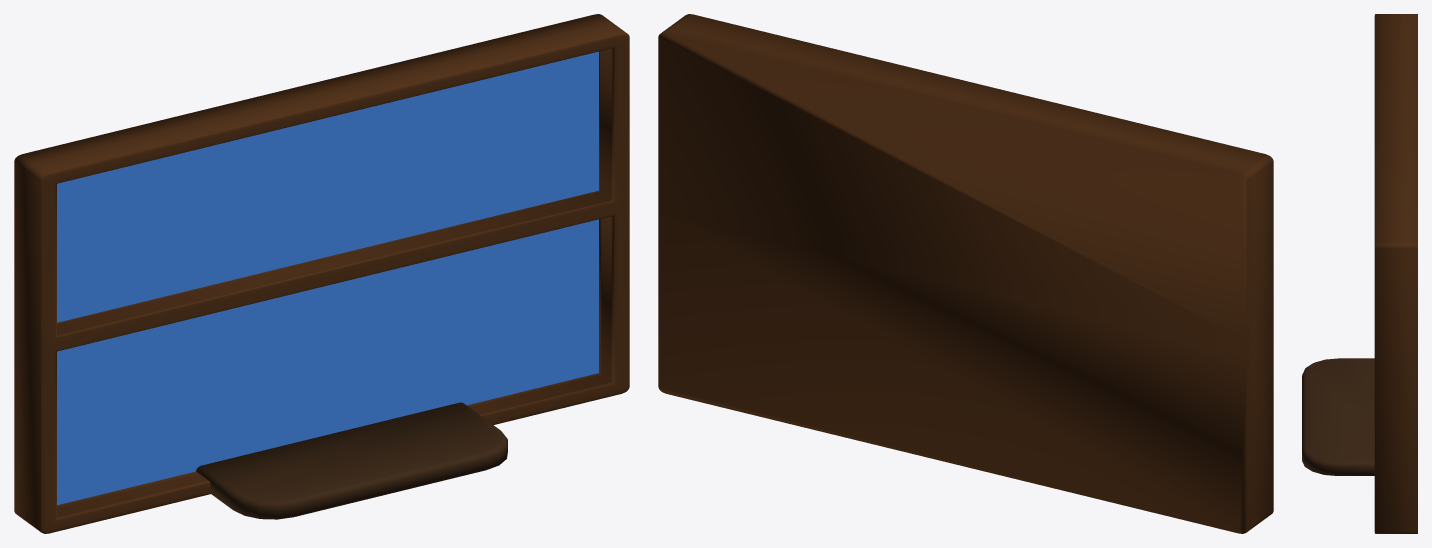
Rendered from Janela.fbx.
The picture shows the model from 3 angles, left to right: view 1: azimuth 30°, elevation 25°; view 2: azimuth 150°, elevation 25°; view 3: azimuth 270°, elevation 25°; orthographic projection. The views are drawn at different scales.
Parts seen in each view (by area): view 1: Janela; view 2: Janela; view 3: Janela.
Part boxes in pixels (x1,y1,x2,y2): Janela: [14, 14, 629, 533]; Janela: [658, 14, 1273, 533]; Janela: [1302, 14, 1417, 533].
Size of the model in its own units: 844 by 493 by 178.
